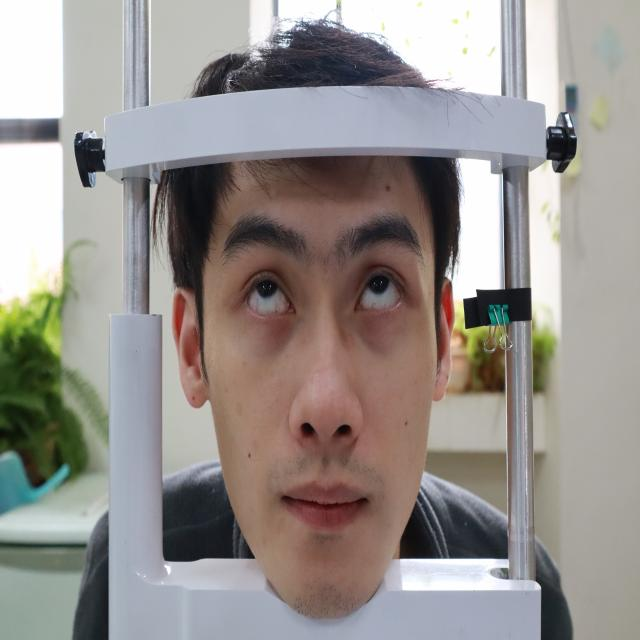eye: (344, 264, 412, 320), (237, 268, 300, 326)
gaze: (366, 272, 392, 296), (256, 277, 279, 299)
